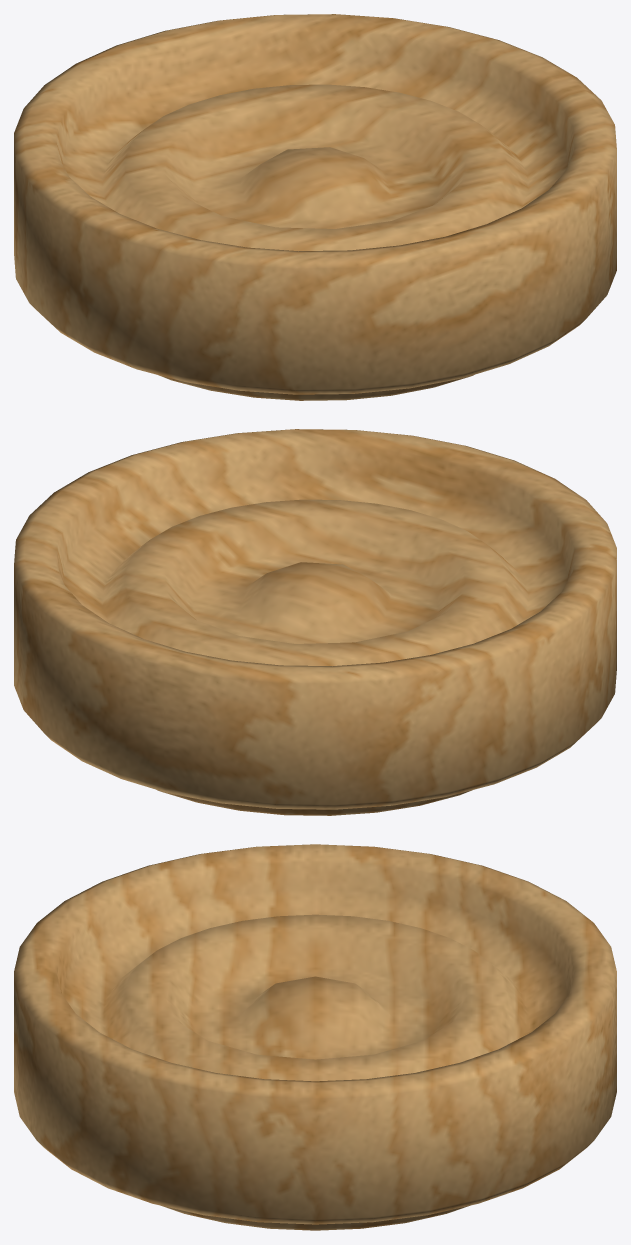
The model's file is checker.glb.
3 renders of one model, top to bottom at view 1: azimuth 30°, elevation 25°; view 2: azimuth 150°, elevation 25°; view 3: azimuth 270°, elevation 25°, orthographic.
Parts seen in each view (by area): view 1: checker; view 2: checker; view 3: checker.
Boxes of the visible parts, x1,y1,x2,y2 form: checker: [14, 14, 616, 400]; checker: [14, 429, 616, 815]; checker: [14, 844, 616, 1230].
Bounding box in the file's own units: 0.2039 × 0.0609 × 0.2039.
1 material, 1 textured.
